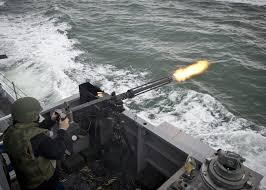gun: (52, 74, 174, 128)
